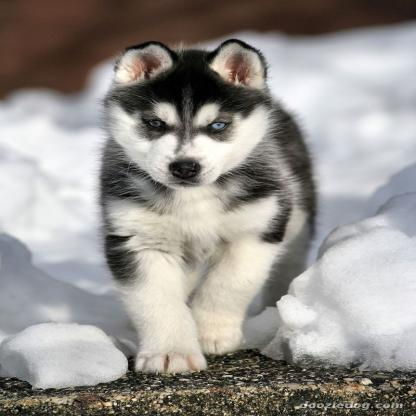husky: (95, 37, 323, 378)
